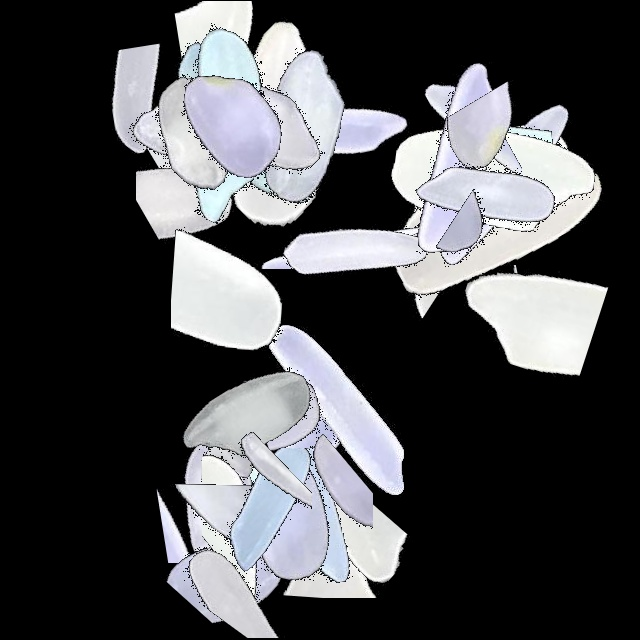Broken: (172, 448, 422, 616), (125, 470, 375, 630), (390, 232, 640, 392), (66, 0, 223, 250), (425, 46, 571, 296), (136, 55, 281, 305), (440, 36, 579, 286), (146, 500, 396, 638), (125, 1, 375, 133), (171, 163, 303, 413), (364, 105, 614, 236), (192, 327, 442, 458), (184, 390, 313, 640), (203, 140, 453, 269), (143, 0, 271, 250), (429, 39, 557, 289), (191, 475, 441, 603), (93, 484, 343, 608), (361, 80, 484, 330), (401, 59, 522, 309), (252, 390, 373, 640), (202, 390, 319, 640), (92, 449, 342, 563), (203, 390, 312, 640), (201, 352, 308, 602), (199, 496, 449, 598), (375, 189, 625, 291), (351, 265, 601, 362)
Full: (355, 75, 605, 325), (163, 364, 413, 614), (96, 390, 346, 640), (153, 5, 403, 255), (366, 91, 616, 341), (82, 0, 332, 250), (378, 59, 628, 309), (231, 128, 481, 378), (175, 0, 425, 250), (212, 283, 462, 533), (116, 0, 366, 250), (181, 0, 431, 250), (190, 390, 440, 640), (125, 0, 375, 250), (366, 51, 616, 301), (168, 390, 418, 640), (97, 0, 347, 250), (334, 33, 584, 283), (123, 289, 373, 539), (66, 11, 316, 261), (107, 0, 357, 250), (363, 72, 613, 322)
